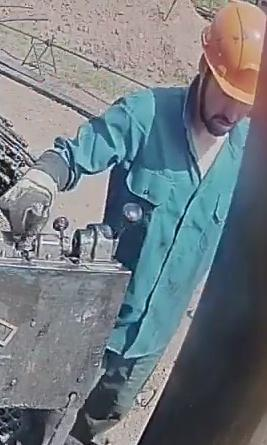gloves: (0, 163, 62, 239)
helmet: (200, 1, 266, 105)
vest: (98, 83, 249, 359)
